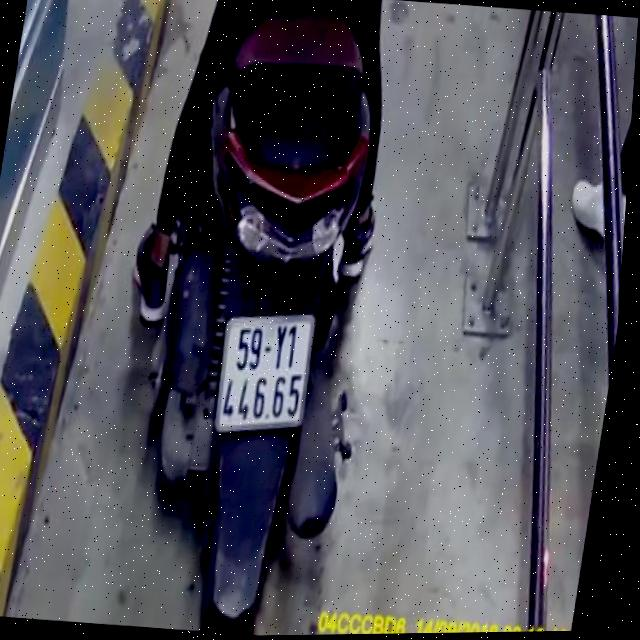motorcycle: (103, 0, 430, 638)
plate: (198, 302, 324, 443)
